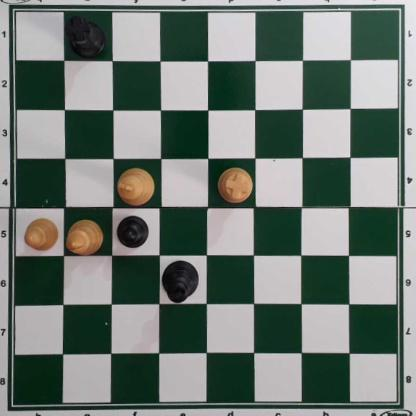black-king: (162, 261, 201, 304)
black-pawn: (117, 216, 149, 251)
black-rook: (65, 15, 106, 60)
white-bishop: (66, 219, 103, 257)
white-king: (117, 167, 156, 207)
white-pawn: (24, 219, 60, 251)
white-rook: (218, 168, 253, 204)
